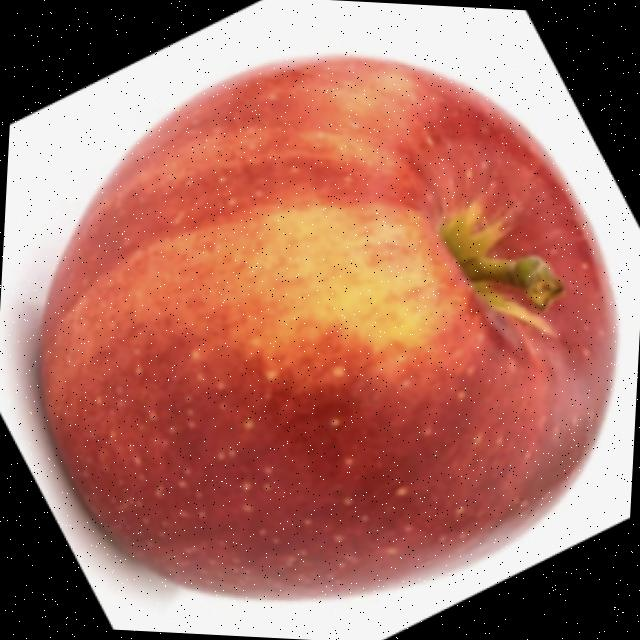Ripe: (16, 32, 636, 620)
